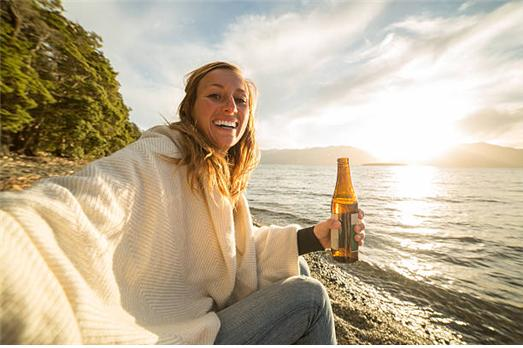alcohol: (326, 157, 361, 264)
